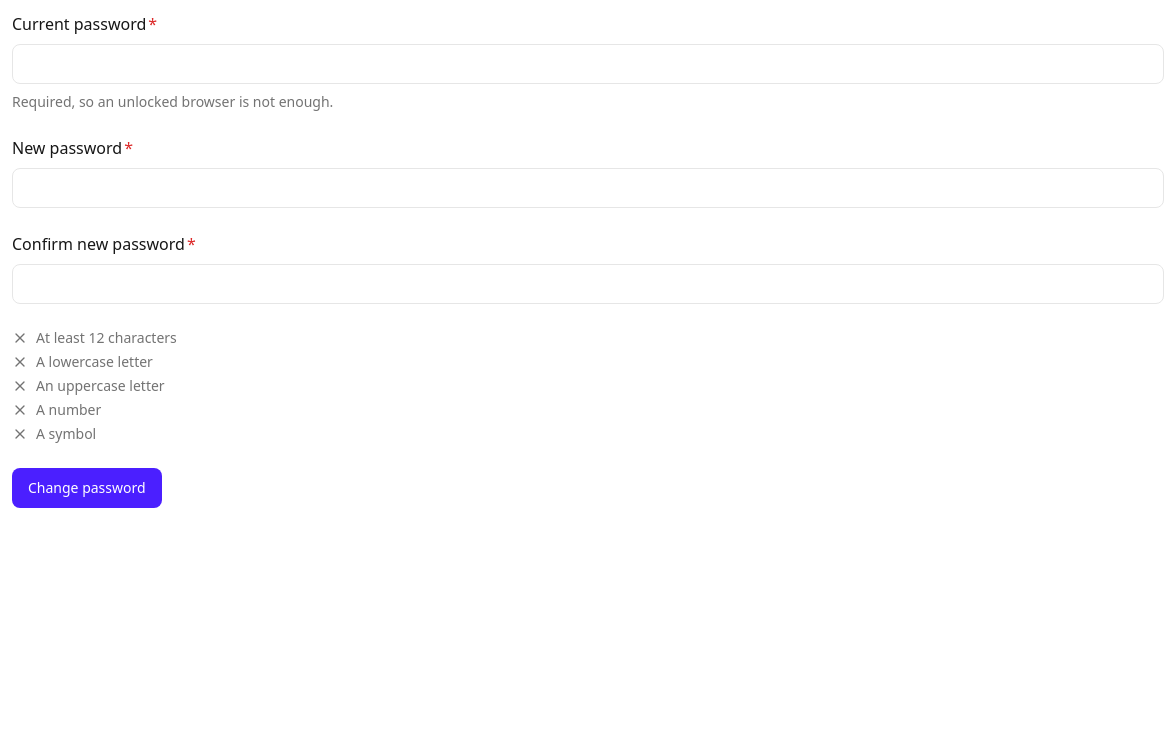
PasswordForm › rejects a confirmation that does not match
Type "old-password" into the password field labelled "Current password*" at point(588, 64), box [12,44,1164,84]
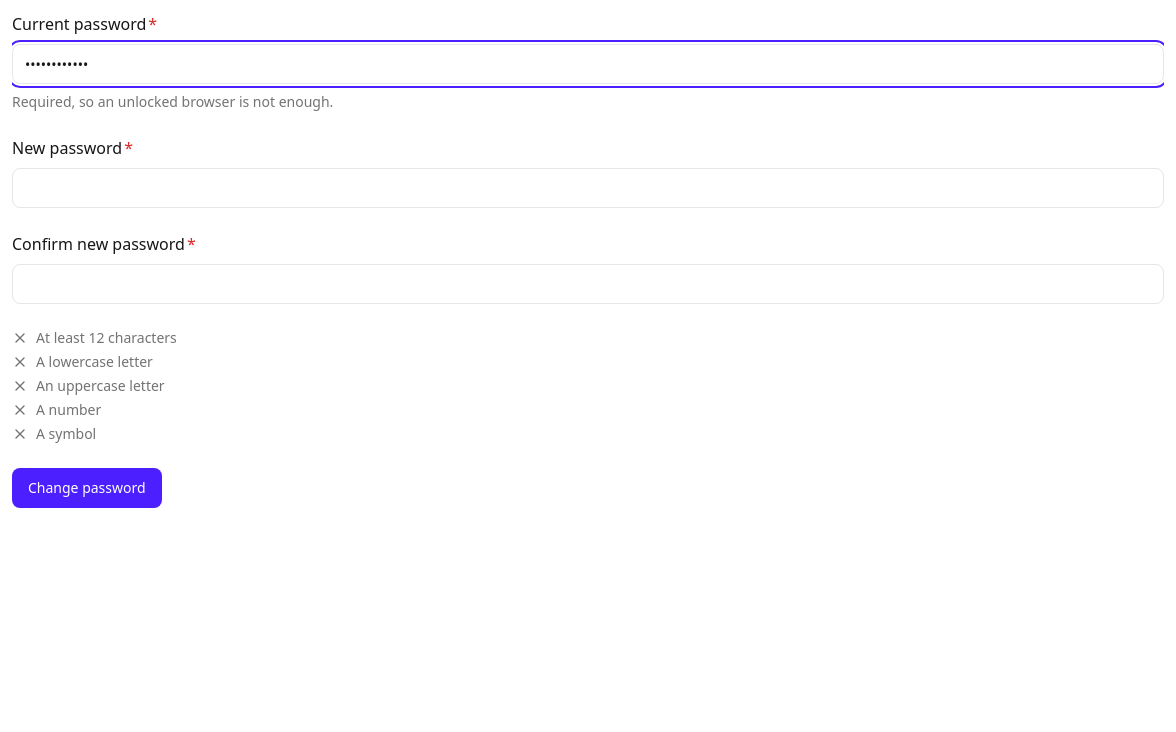
Type "Abcdefghij1!" into the password field labelled "New password*" at point(588, 188), box [12,168,1164,208]
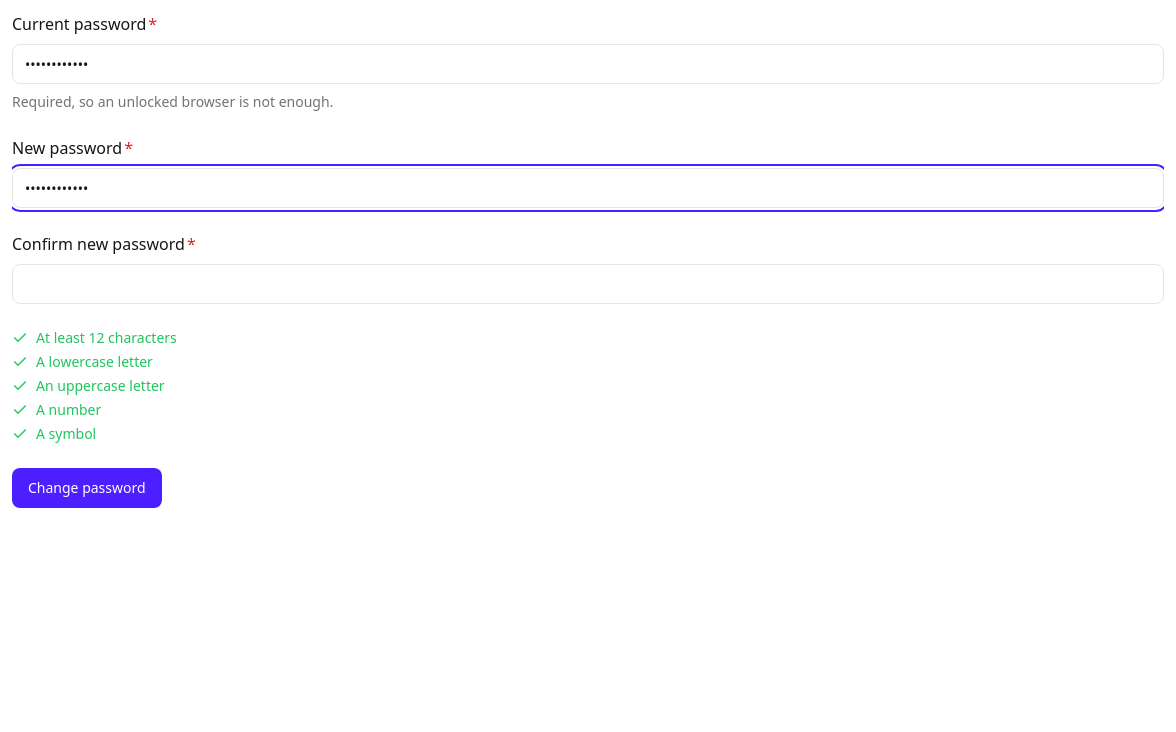
Type "Abcdefghij1?" into the password field labelled "Confirm new password*" at point(588, 284), box [12,264,1164,304]
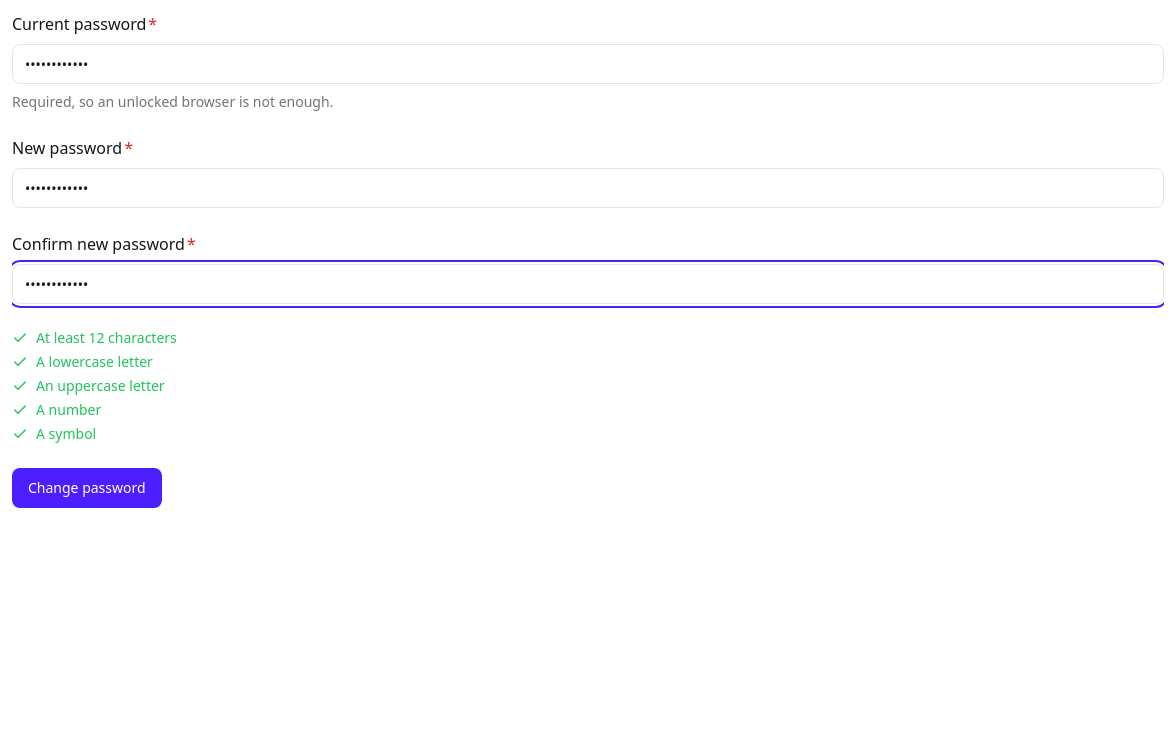
Click the button "Change password" at point(87, 488), box [12,468,162,508]
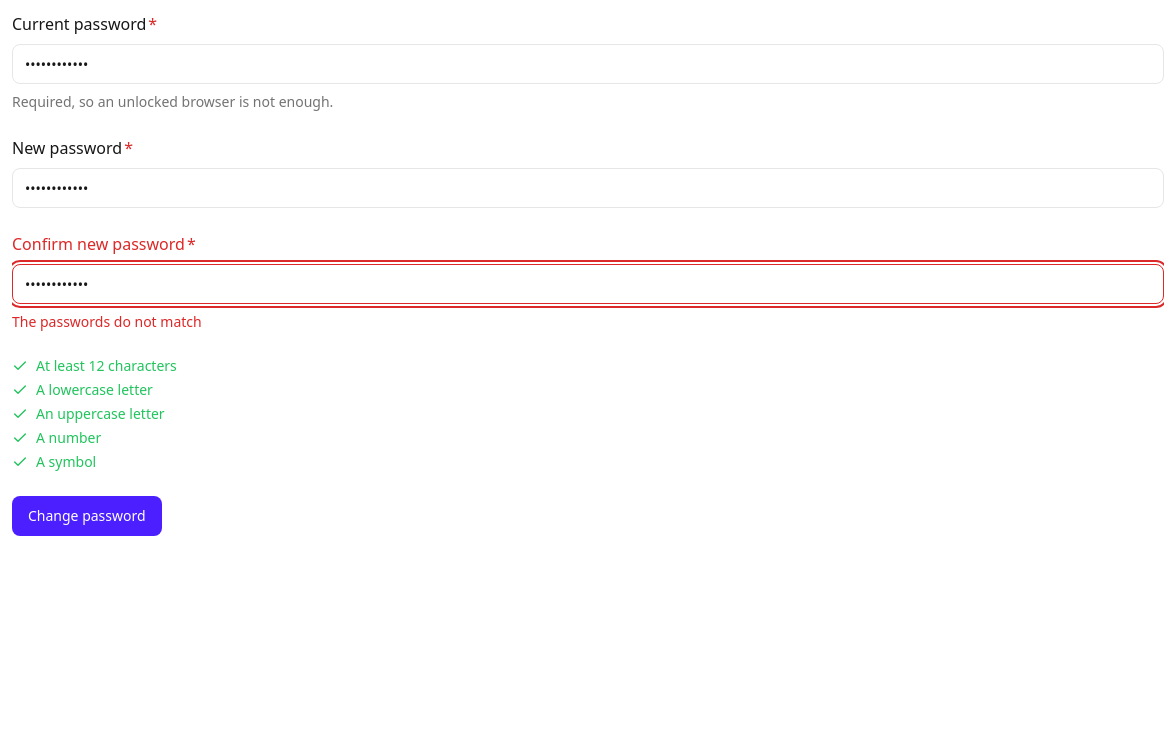
Check: the text "The passwords do not match" is shown, box [12,312,202,331]
